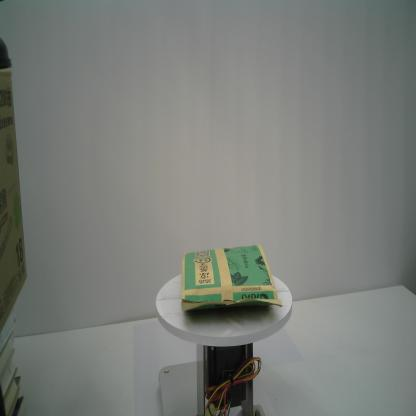Dried Food: (180, 242, 282, 312)
